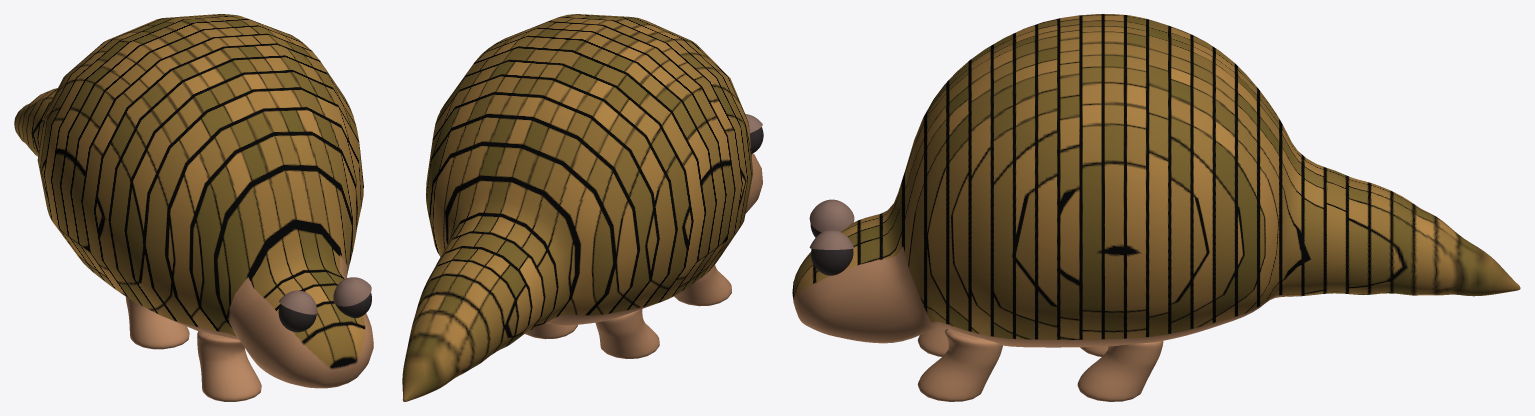
File: Tatu.fbx
3 renders of one model, left to right at view 1: azimuth 30°, elevation 25°; view 2: azimuth 150°, elevation 25°; view 3: azimuth 270°, elevation 25°, orthographic. The views are drawn at different scales.
Visible parts, largest first — view 1: Blocosauro.003; view 2: Blocosauro.003; view 3: Blocosauro.003.
Boxes of the visible parts, x1,y1,x2,y2 form: Blocosauro.003: (14, 14, 373, 401); Blocosauro.003: (402, 14, 763, 401); Blocosauro.003: (792, 14, 1520, 401).
Bounding box in the file's own units: 326 × 355 × 695.
1 material, 1 textured.
